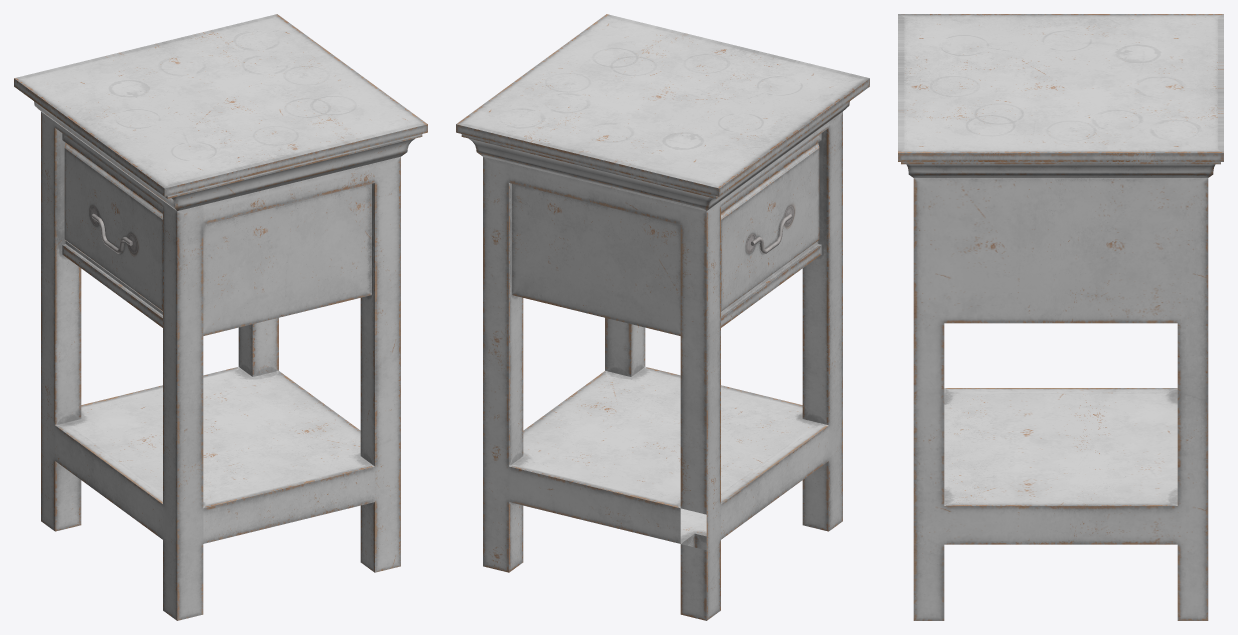
The model's file is SM_TelephoneTable.fbx.
3 renders of one model, left to right at view 1: azimuth 30°, elevation 25°; view 2: azimuth 150°, elevation 25°; view 3: azimuth 270°, elevation 25°, orthographic. The views are drawn at different scales.
Visible parts, largest first — view 1: SM_TelephoneTable_LOD0; view 2: SM_TelephoneTable_LOD0; view 3: SM_TelephoneTable_LOD0.
Part boxes in pixels (bbox=[...]): SM_TelephoneTable_LOD0: bbox=[14, 14, 427, 620]; SM_TelephoneTable_LOD0: bbox=[456, 14, 869, 620]; SM_TelephoneTable_LOD0: bbox=[898, 14, 1223, 620].
Size of the model in its own units: 47.66 by 47.21 by 76.53.
1 material, 1 textured.
